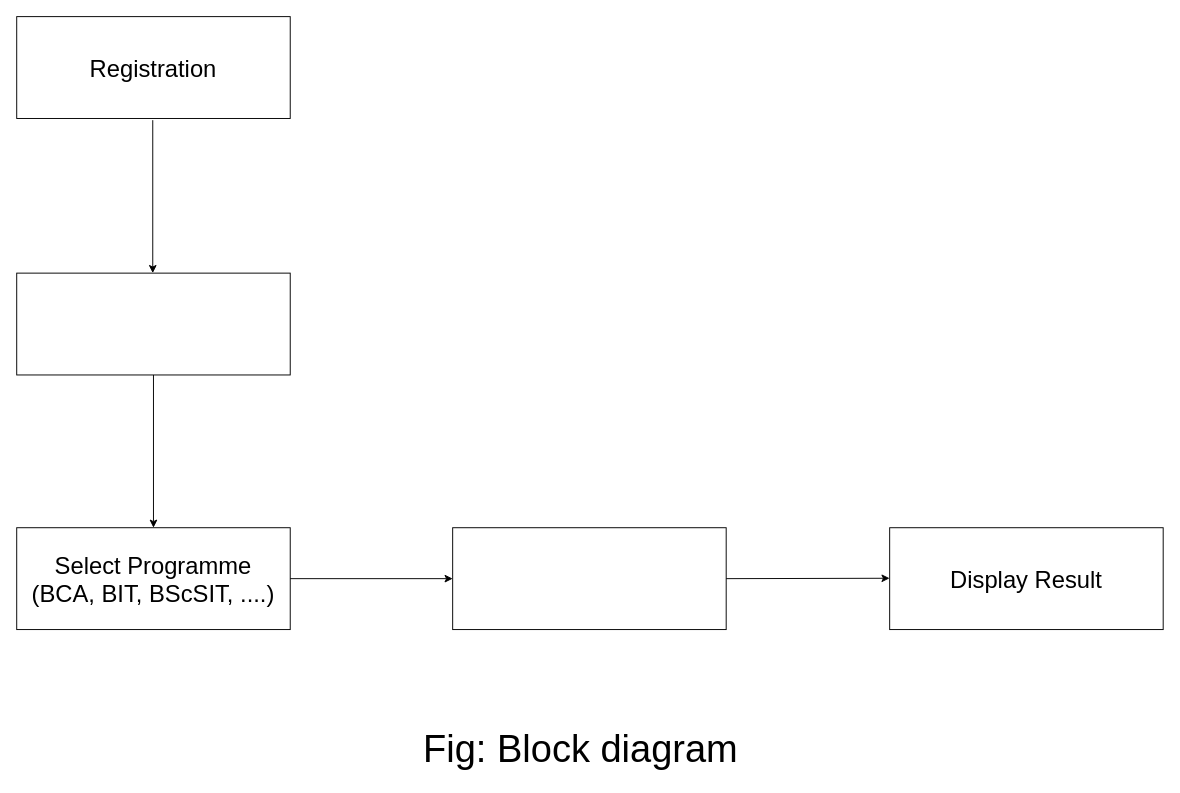
Some shapes in this 1180 by 793 pixel diagram are drawn without their labels. The centre of each missing label's shape, as x and y in pixels:
Display Model Test: (589,578)
Login: (153,323)
